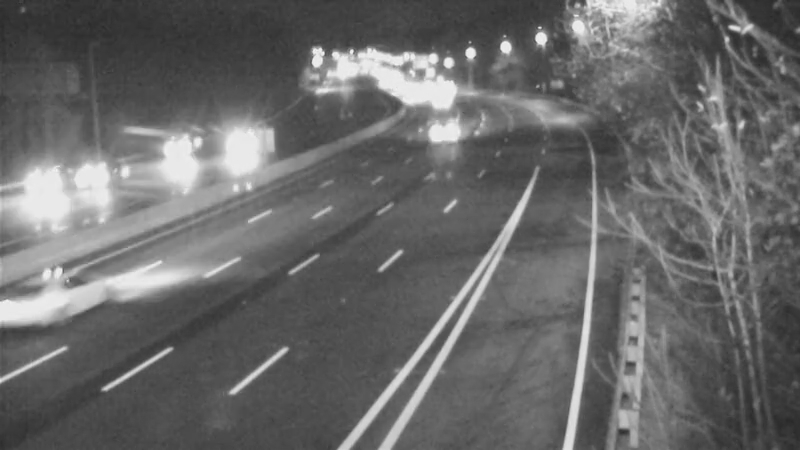vehicle: (1, 257, 95, 367), (3, 145, 83, 225), (57, 140, 137, 220), (129, 121, 209, 201), (419, 104, 469, 154), (227, 124, 277, 174)
